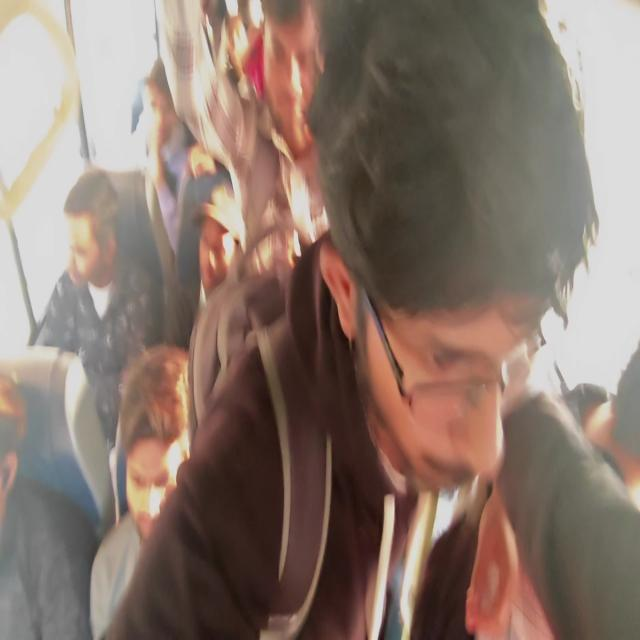person: (101, 0, 599, 638), (464, 388, 639, 638), (28, 168, 160, 452), (88, 342, 190, 637), (0, 370, 102, 638)
